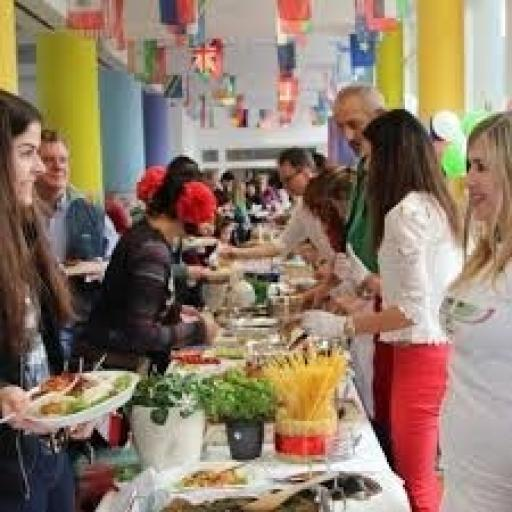eating: (0, 75, 510, 510), (0, 84, 98, 510)
